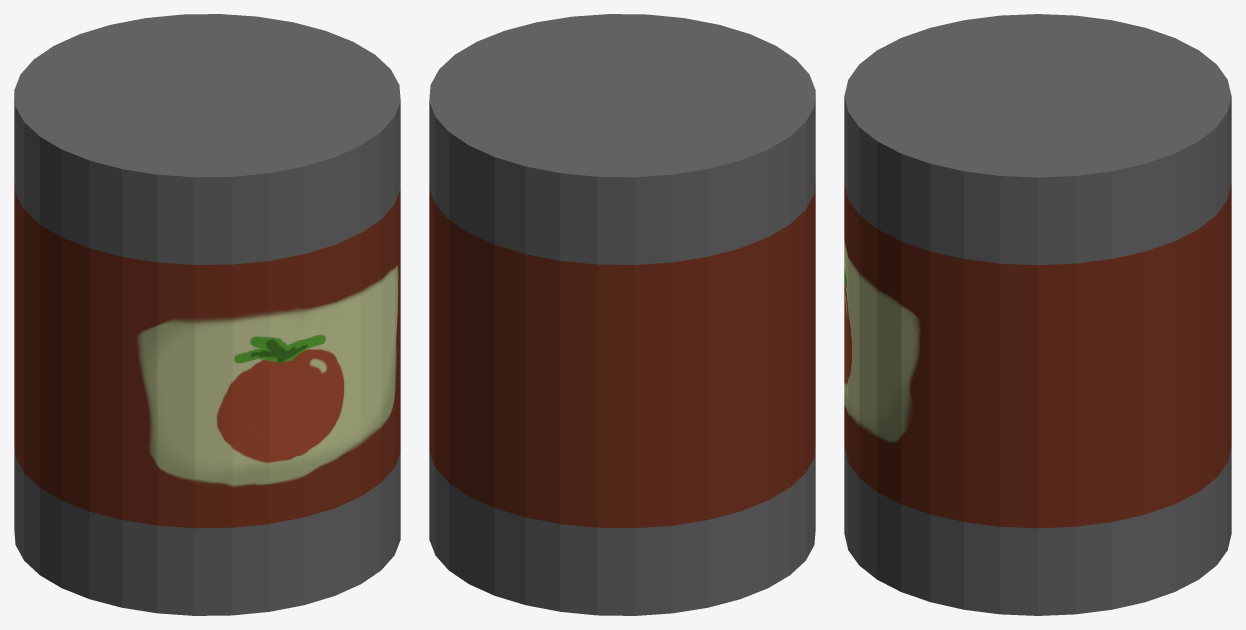
File: Food Can Plant 2.glb
3 views of the same model, side by side, from view 1: azimuth 30°, elevation 25°; view 2: azimuth 150°, elevation 25°; view 3: azimuth 270°, elevation 25° (orthographic).
Parts seen in each view (by area): view 1: Cylinder; view 2: Cylinder; view 3: Cylinder.
Boxes of the visible parts, x1,y1,x2,y2 form: Cylinder: (14,14,400,615); Cylinder: (429,14,815,615); Cylinder: (844,14,1231,615).
Size of the model in its own units: 0.2 by 0.25 by 0.2.
Materials: 2 (1 with a texture image).
